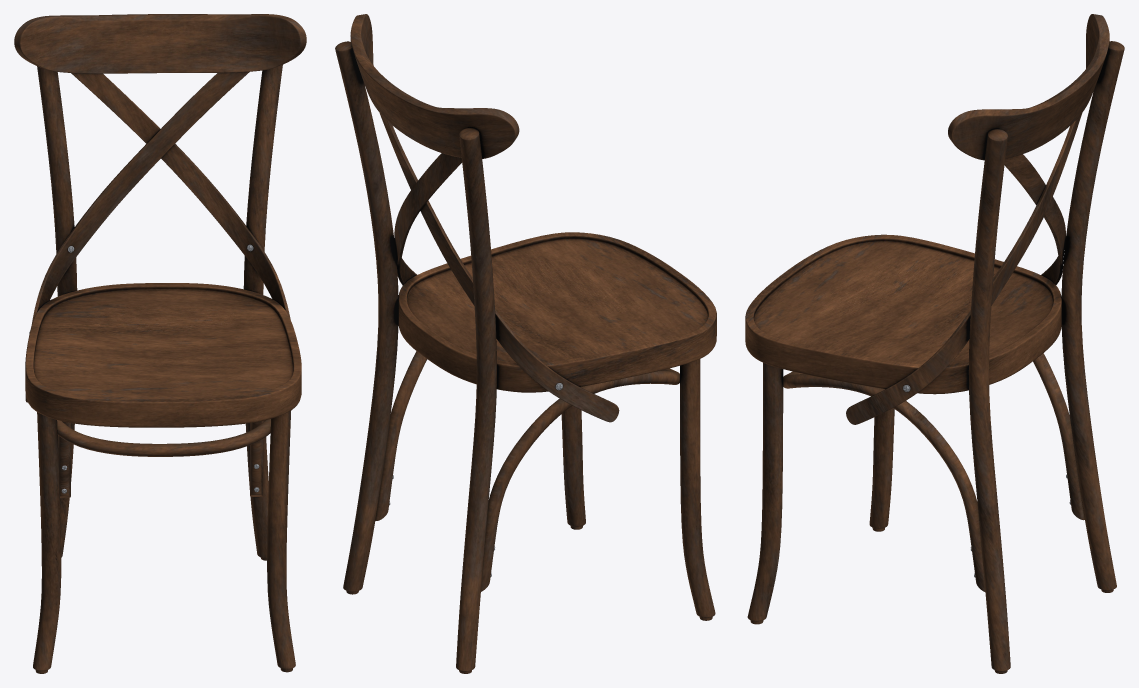
File: scaun1.fbx
3 renders of one model, left to right at view 1: azimuth 30°, elevation 25°; view 2: azimuth 150°, elevation 25°; view 3: azimuth 270°, elevation 25°, orthographic. The views are drawn at different scales.
Visible parts, largest first — view 1: Obj3d66_399485_1_708; view 2: Obj3d66_399485_1_708; view 3: Obj3d66_399485_1_708.
Boxes of the visible parts, <box> form: Obj3d66_399485_1_708: <box>14,14,306,673</box>; Obj3d66_399485_1_708: <box>335,14,716,673</box>; Obj3d66_399485_1_708: <box>745,14,1124,673</box>.
Bounding box in the file's own units: 53.22 × 90.11 × 55.08.
